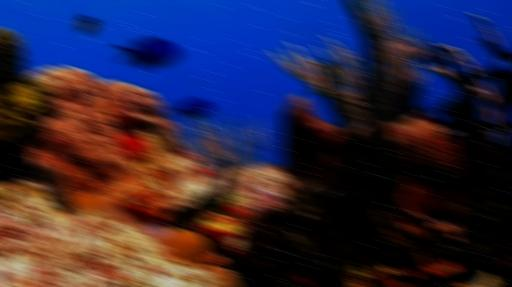Fish: (113, 37, 180, 69), (386, 81, 421, 122), (168, 98, 213, 120), (76, 17, 97, 35)
